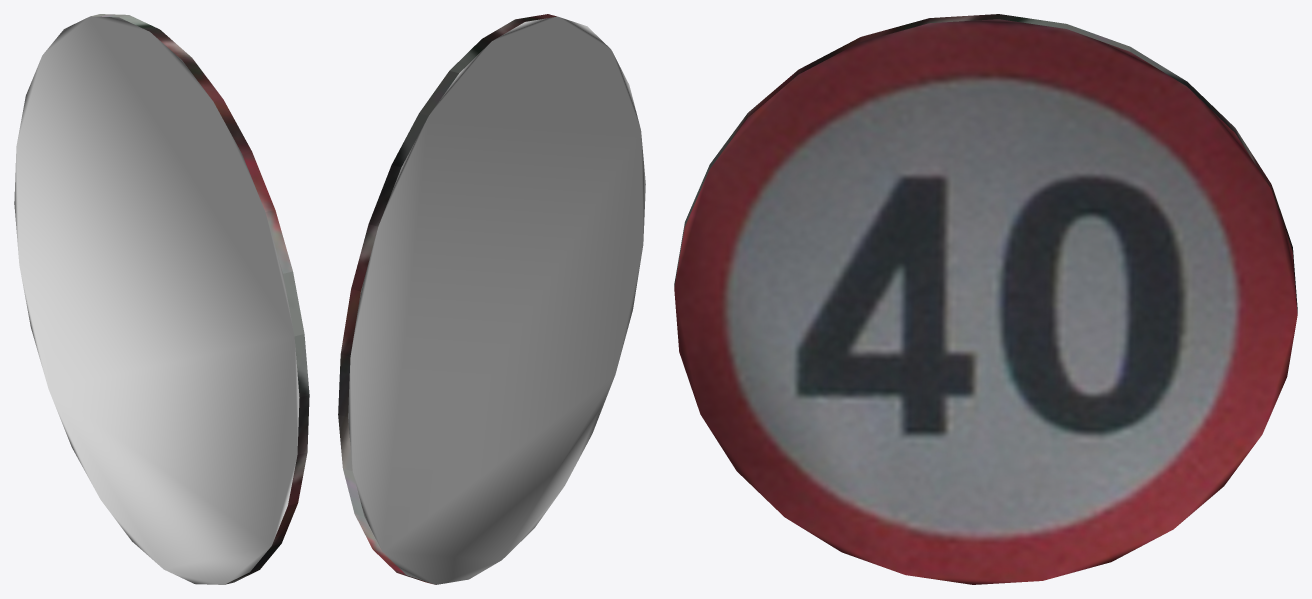
The picture shows the model from 3 angles, left to right: view 1: azimuth 30°, elevation 25°; view 2: azimuth 150°, elevation 25°; view 3: azimuth 270°, elevation 25°; orthographic projection. The views are drawn at different scales.
Parts seen in each view (by area): view 1: model04; view 2: model04; view 3: model04.
Part boxes in pixels (x1,y1,x2,y2): model04: [14, 14, 309, 584]; model04: [338, 14, 645, 584]; model04: [674, 14, 1297, 584].
Size of the model in its own units: 0.0396 by 1.19 by 1.19.
Materials: 3 (3 with a texture image).
